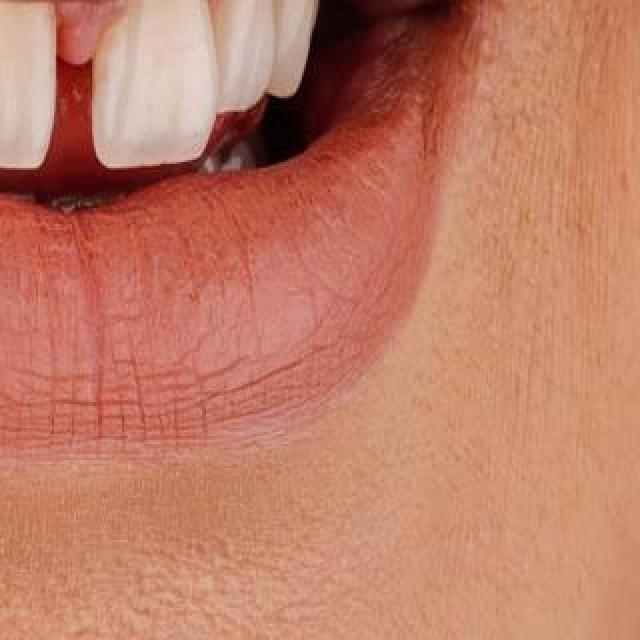spacing: (24, 0, 120, 180)
